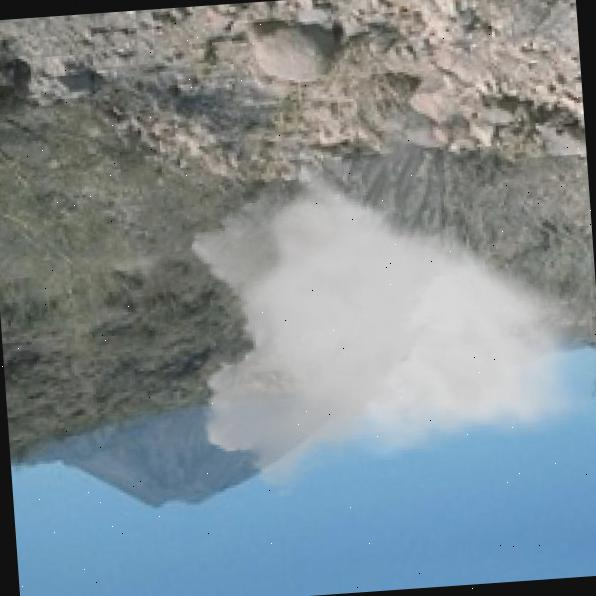smoke: (171, 83, 596, 504)
